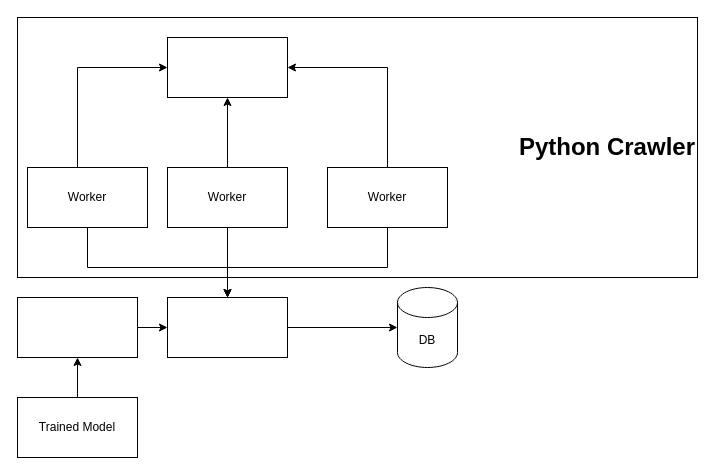
Image size: 715x475. Some labels were removed from this diagram. Each missing label, with the centre of its shape:
API: (x=227, y=327)
Model API: (x=77, y=327)
Queue: (x=227, y=67)
